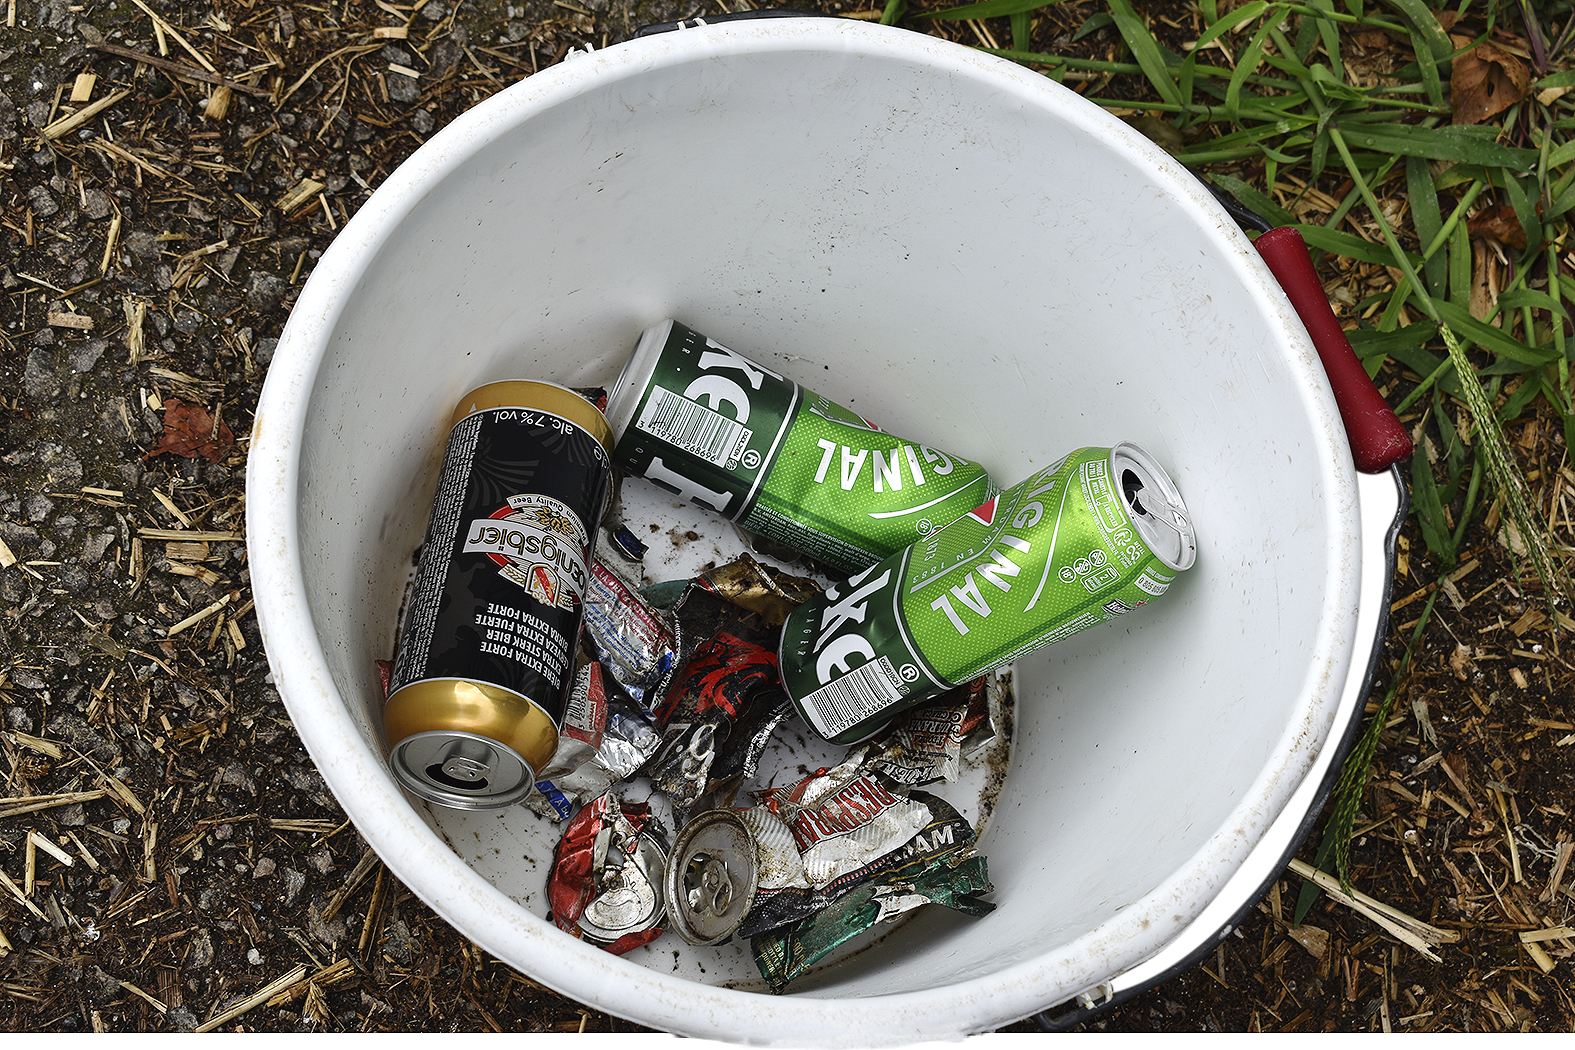can: (773, 427, 1230, 742), (386, 347, 601, 829), (601, 323, 1005, 575), (679, 673, 1016, 945)
